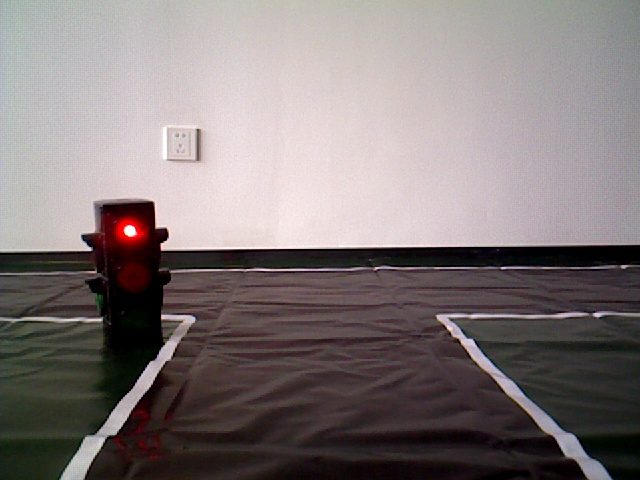red: (95, 205, 162, 344)
